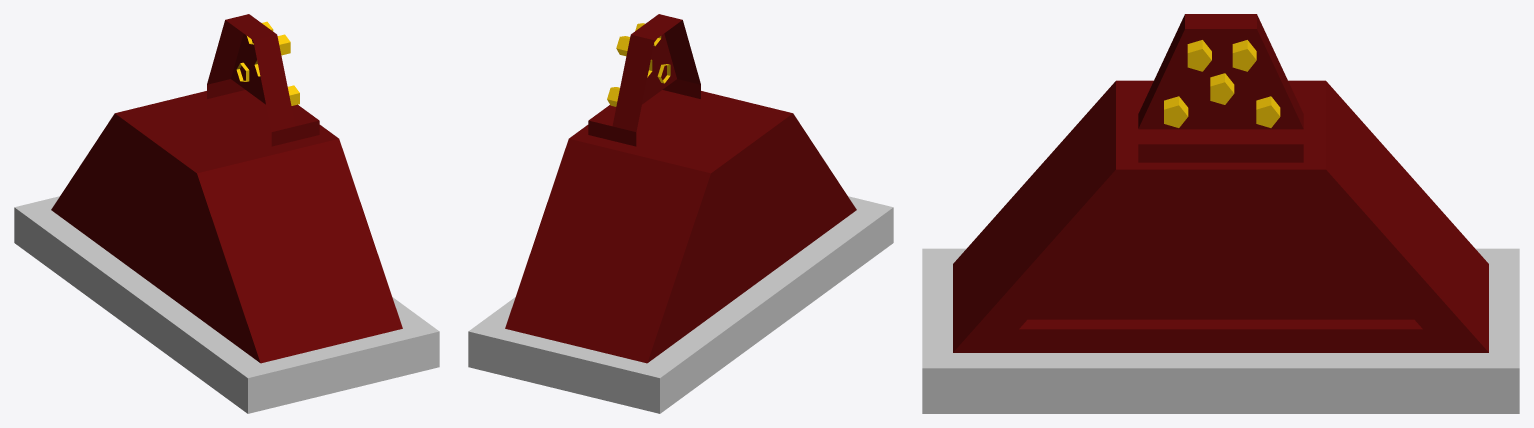
The model's file is GirderBrace.fbx.
3 views of the same model, side by side, from view 1: azimuth 30°, elevation 25°; view 2: azimuth 150°, elevation 25°; view 3: azimuth 270°, elevation 25° (orthographic). The views are drawn at different scales.
Parts seen in each view (by area): view 1: Cube.001; view 2: Cube.001; view 3: Cube.001.
Boxes of the visible parts, x1,y1,x2,y2 form: Cube.001: [14, 14, 439, 413]; Cube.001: [468, 14, 893, 413]; Cube.001: [922, 14, 1519, 413].
Bounding box in the file's own units: 135 × 183 × 284.
